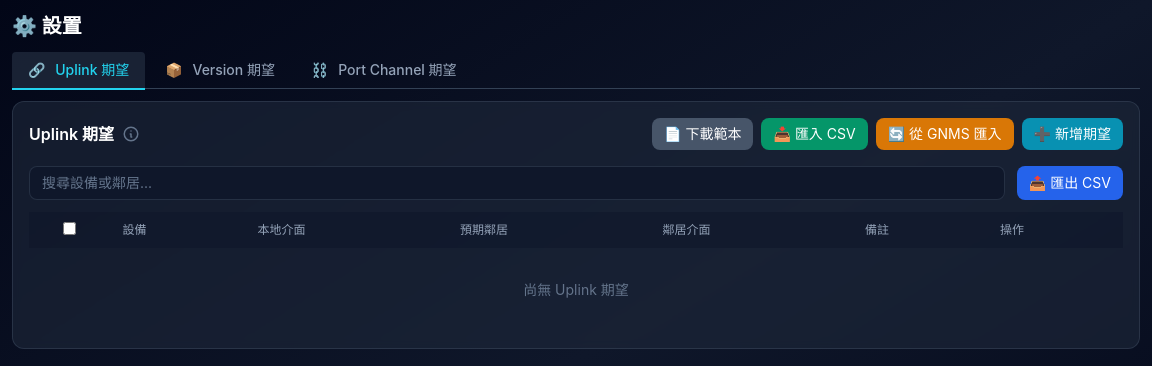
Test case: Settings › switching tabs works
This screenshot has width=1152, height=366.
Note: Switch to version tab
Click the button "📦 Version 期望" at (220, 71), box [149,52,291,90]
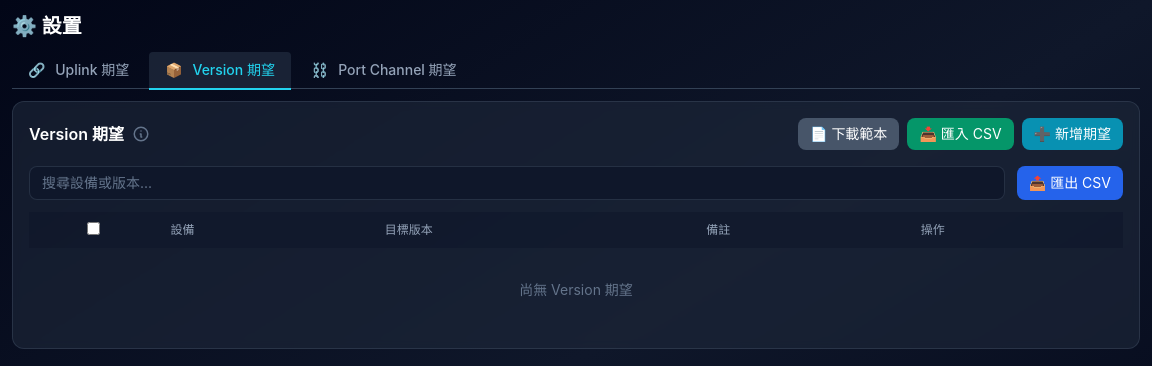
Now the heading "Version 期望" is shown, box [29,122,124,146]
Note: Switch to port channel tab
Click the button "⛓️ Port Channel 期望" at (384, 71), box [295,52,473,90]
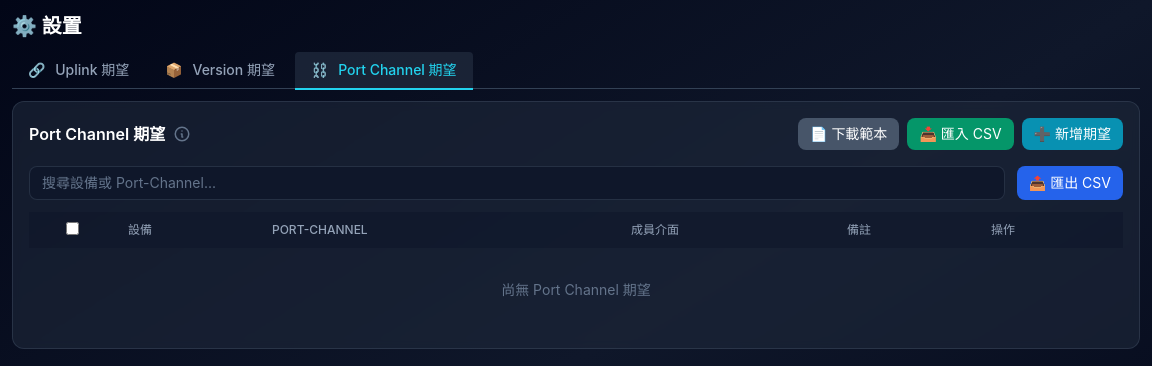
Now the heading "Port Channel 期望" is shown, box [29,122,165,146]
